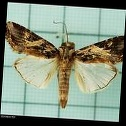Spodoptera litura: (4, 20, 122, 109)
